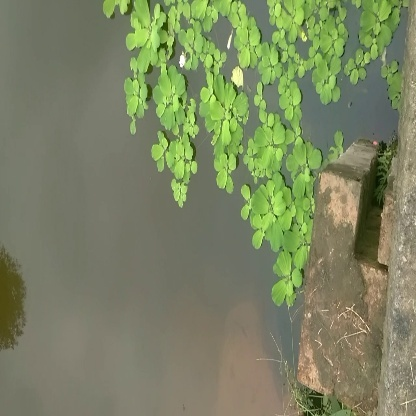leaf: (152, 131, 205, 208)
